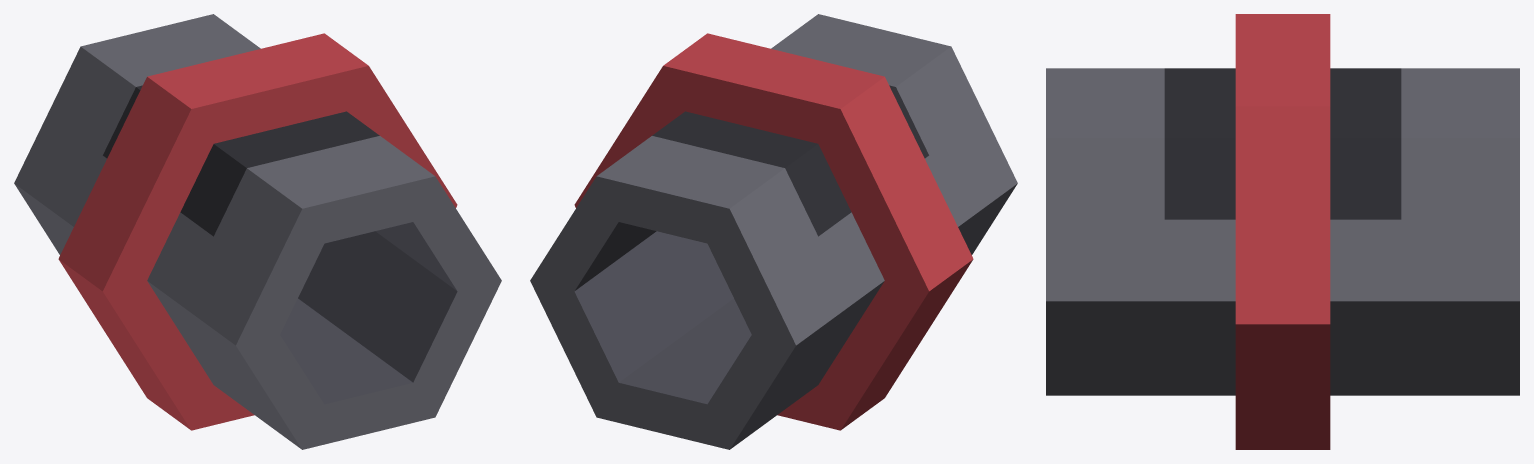
Rendered from hull_pipe.glb.
3 views of the same model, side by side, from view 1: azimuth 30°, elevation 25°; view 2: azimuth 150°, elevation 25°; view 3: azimuth 270°, elevation 25° (orthographic). The views are drawn at different scales.
Visible parts, largest first — view 1: body; view 2: body; view 3: body.
Boxes of the visible parts, x1=… form: body: x1=14, y1=14, x2=501, y2=449; body: x1=530, y1=14, x2=1017, y2=449; body: x1=1046, y1=14, x2=1519, y2=449.
Bounding box in the file's own units: 0.9238 × 0.8 × 1.
